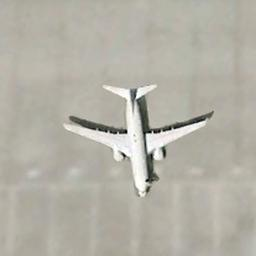Airplane: (64, 75, 206, 205)
